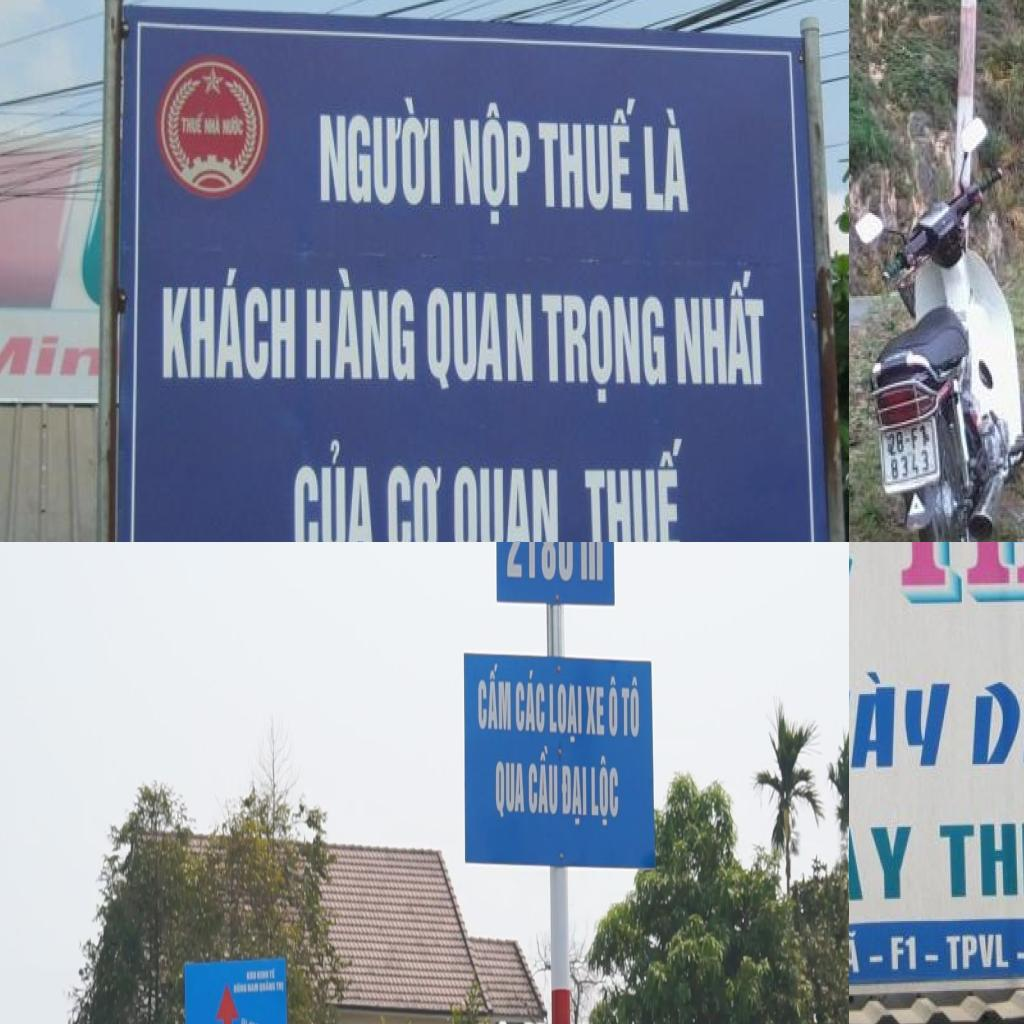text: (157, 260, 301, 386), (536, 290, 671, 408), (316, 94, 445, 209), (306, 260, 421, 386), (670, 260, 770, 398), (536, 91, 639, 217), (425, 282, 537, 393), (452, 100, 540, 238), (849, 671, 955, 774), (290, 425, 381, 542), (938, 787, 1024, 902), (449, 462, 563, 542), (849, 808, 915, 908), (640, 100, 696, 216), (971, 666, 1024, 769), (383, 457, 445, 542), (504, 542, 605, 587), (33, 328, 105, 381), (476, 663, 513, 738), (547, 678, 584, 748), (526, 746, 559, 820), (945, 933, 1011, 970), (590, 752, 620, 829), (494, 756, 527, 825), (514, 666, 546, 737), (561, 763, 588, 830), (885, 422, 931, 460), (620, 674, 642, 744), (584, 682, 606, 741), (890, 935, 917, 972), (180, 109, 205, 137), (608, 674, 618, 740), (221, 113, 246, 138), (204, 113, 222, 137), (259, 979, 276, 994), (868, 954, 884, 966), (234, 983, 248, 995), (924, 954, 940, 964), (246, 983, 260, 994), (257, 969, 269, 981), (246, 970, 257, 982), (276, 981, 285, 994), (1015, 952, 1024, 962), (270, 968, 276, 980)
